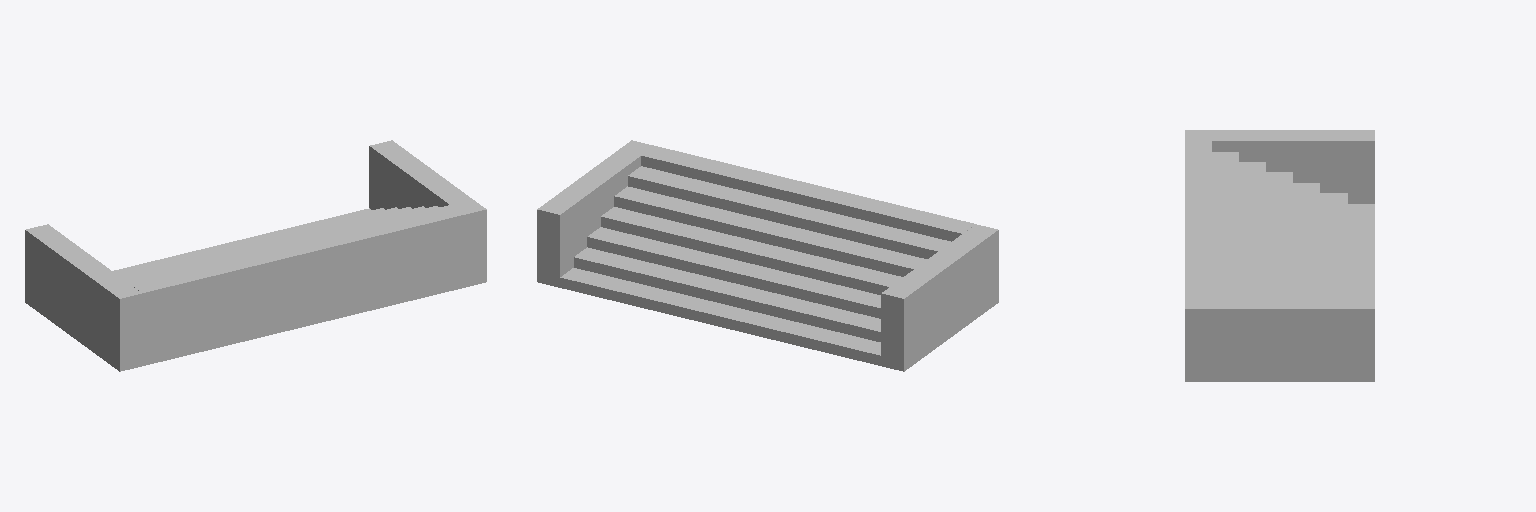
File: ESCADARIA.obj
The picture shows the model from 3 angles: view 1: azimuth 30°, elevation 25°; view 2: azimuth 150°, elevation 25°; view 3: azimuth 270°, elevation 25°; orthographic projection.
Visible parts, largest first — view 1: ESCADARIA_MESH; view 2: ESCADARIA_MESH; view 3: ESCADARIA_MESH.
Boxes of the visible parts, x1=… form: ESCADARIA_MESH: x1=25, y1=140, x2=486, y2=371; ESCADARIA_MESH: x1=537, y1=140, x2=998, y2=371; ESCADARIA_MESH: x1=1185, y1=130, x2=1374, y2=381.
Bounding box in the file's own units: 8.67 × 1.65 × 3.87.